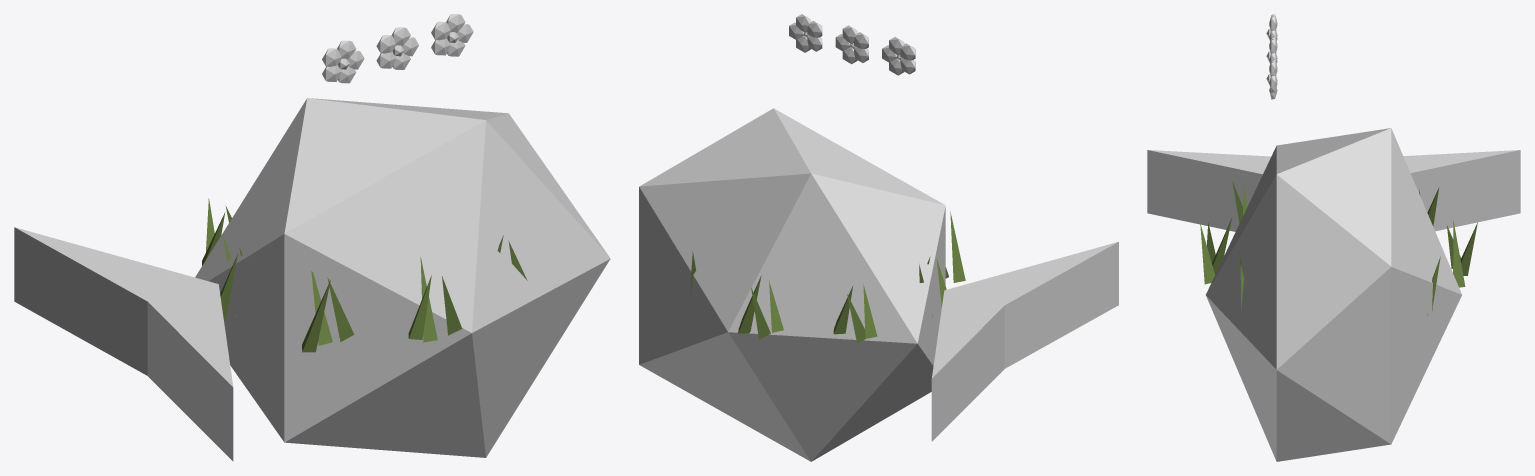
The model's file is props.glb.
3 renders of one model, left to right at view 1: azimuth 30°, elevation 25°; view 2: azimuth 150°, elevation 25°; view 3: azimuth 270°, elevation 25°, orthographic. The views are drawn at different scales.
Visible parts, largest first — view 1: fish, weeds, blossoms; view 2: fish, weeds, blossoms; view 3: fish, weeds, blossoms.
Part boxes in pixels (x1,y1,x2,y2): fish: (14, 98, 610, 461); weeds: (202, 198, 527, 352); blossoms: (322, 14, 473, 83); fish: (639, 108, 1118, 461); weeds: (684, 211, 965, 343); blossoms: (789, 14, 915, 75); fish: (1147, 128, 1520, 461); weeds: (1200, 181, 1477, 315); blossoms: (1266, 14, 1277, 99).
Size of the model in its own units: 1.91 by 1.83 by 1.6.
